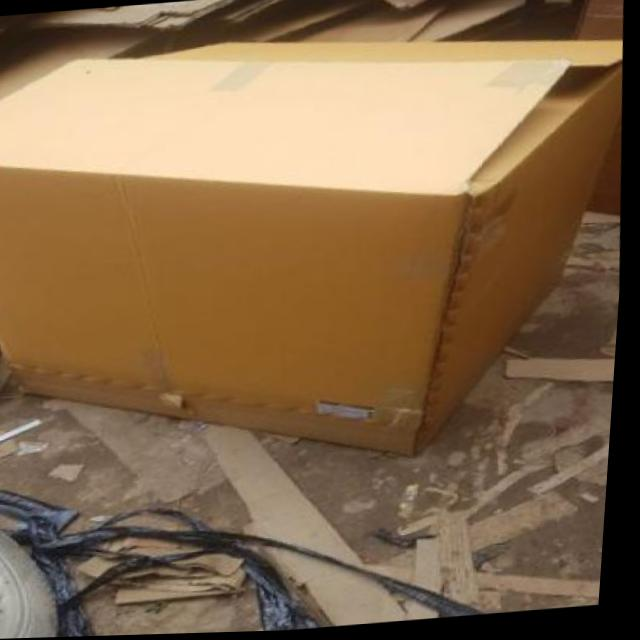box: (0, 16, 638, 491)
